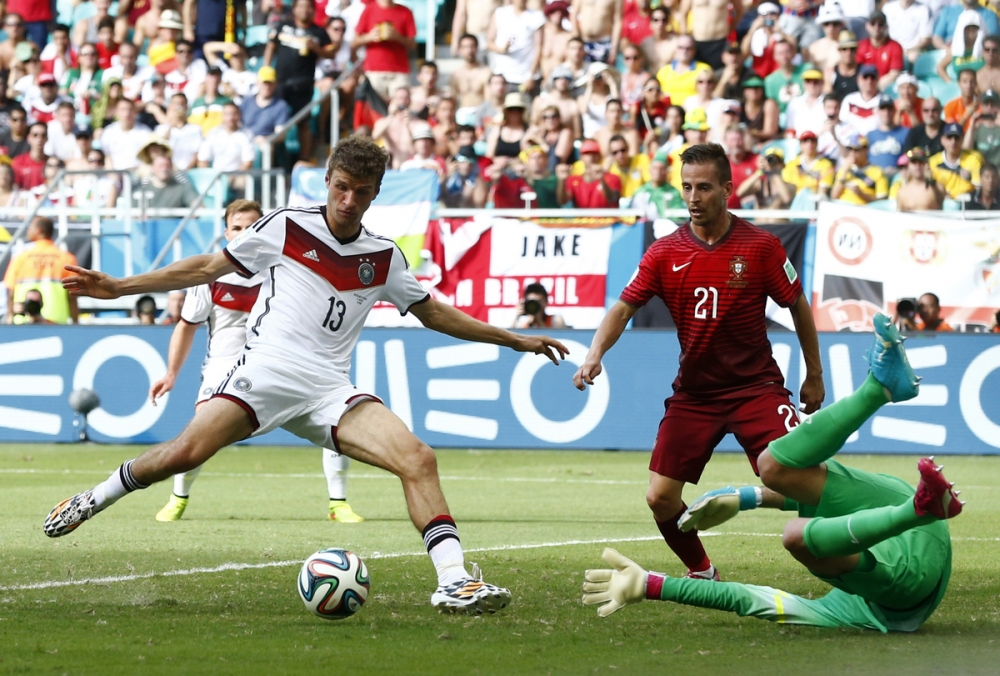football: (295, 545, 369, 622)
